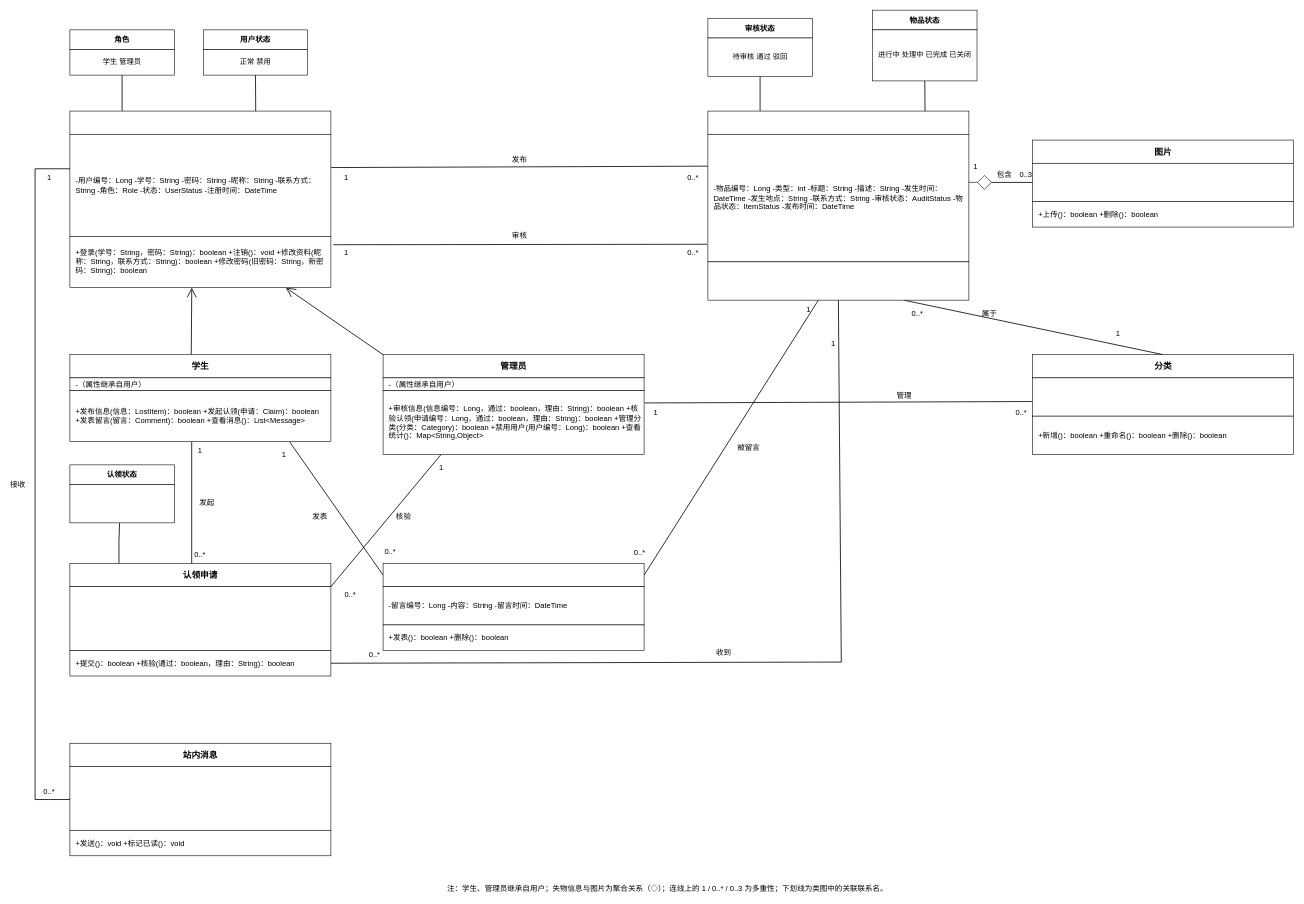
This 1304x904 diagram has some shape labels left out. The shapes that lost their labels are listed below. From the top down, each one's centre as x and y in pixels, then its label:
At (x=200, y=122): "用户".
At (x=838, y=122): "失物信息".
At (x=1163, y=182): "-图片编号：Long -图片路径：String -排序号：int".
At (x=838, y=280): "+发布()：boolean +编辑()：boolean +下架()：boolean".
At (x=1163, y=396): "-分类编号：Long -分类名称：String -排序号：int".
At (x=121, y=503): "待核验 通过 拒绝".
At (x=513, y=575): "留言".
At (x=200, y=618): "-申请编号：Long -细节描述：String -状态：ClaimStatus -核验回复：String -申请时间：DateTime".
At (x=200, y=798): "-消息编号：Long -消息类型：String -内容：String -是否已读：boolean -发送时间：DateTime".
